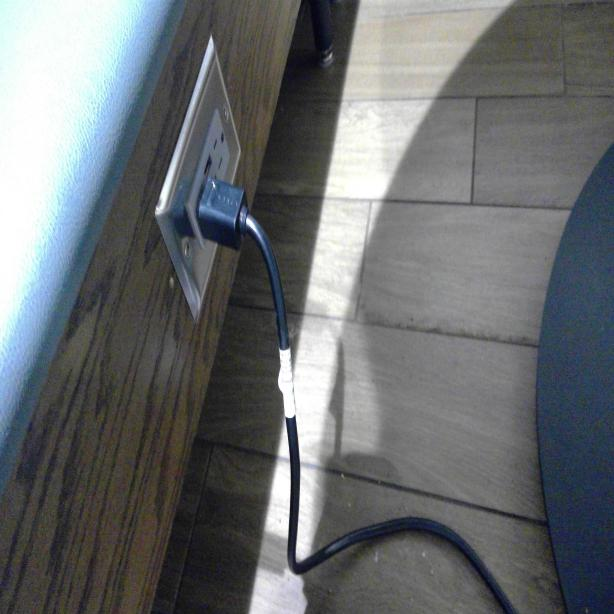typeb: (210, 125, 230, 172)
